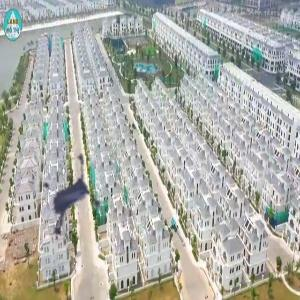drone: (26, 163, 120, 257)
